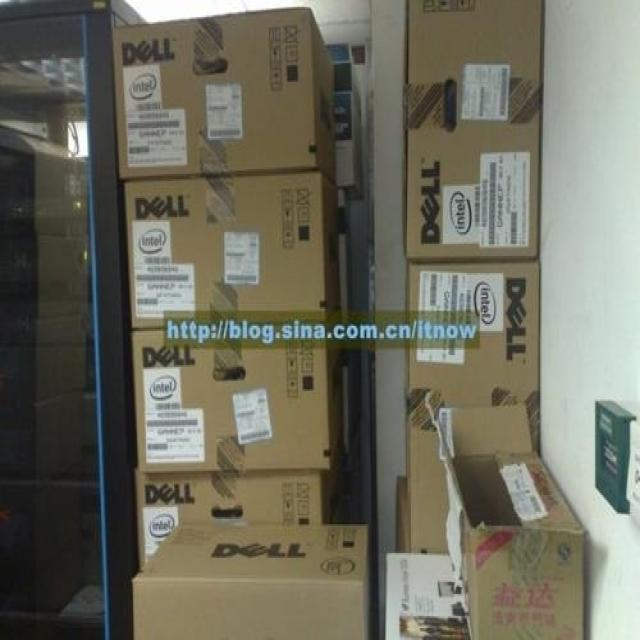box: (406, 259, 540, 556), (113, 9, 337, 186), (426, 398, 584, 640), (403, 0, 543, 261), (132, 307, 344, 476), (123, 169, 340, 333), (132, 524, 374, 640), (134, 452, 347, 573), (0, 459, 84, 633), (0, 236, 93, 346), (0, 126, 88, 236), (385, 551, 474, 640), (0, 391, 83, 486), (328, 43, 365, 200), (0, 346, 86, 406), (343, 343, 364, 454), (338, 186, 351, 364), (396, 473, 411, 553)
